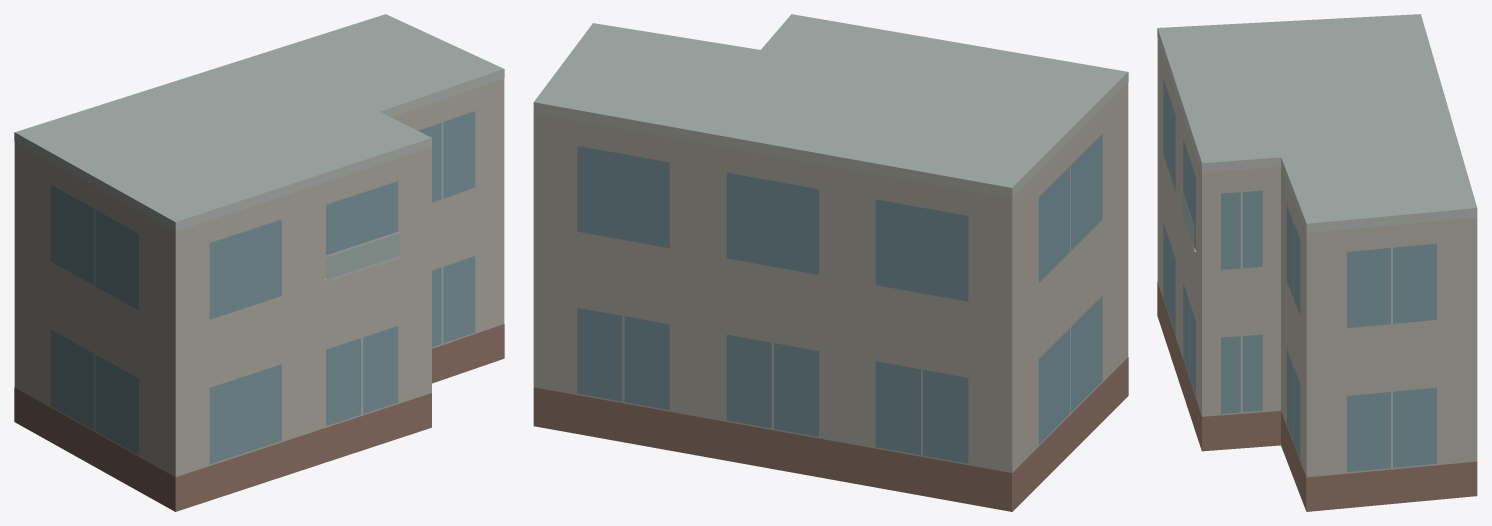
File: survey-upis-32493134.glb
The picture shows the model from 3 angles, left to right: view 1: azimuth 30°, elevation 25°; view 2: azimuth 150°, elevation 25°; view 3: azimuth 270°, elevation 25°; orthographic projection. The views are drawn at different scales.
Parts seen in each view (by area): view 1: survey-upis-32493134.tmp; view 2: survey-upis-32493134.tmp; view 3: survey-upis-32493134.tmp.
Boxes of the visible parts, x1=… form: survey-upis-32493134.tmp: x1=14, y1=14, x2=504, y2=511; survey-upis-32493134.tmp: x1=533, y1=14, x2=1128, y2=511; survey-upis-32493134.tmp: x1=1157, y1=14, x2=1477, y2=511.
Size of the model in its own units: 11.73 by 7.5 by 7.56.
